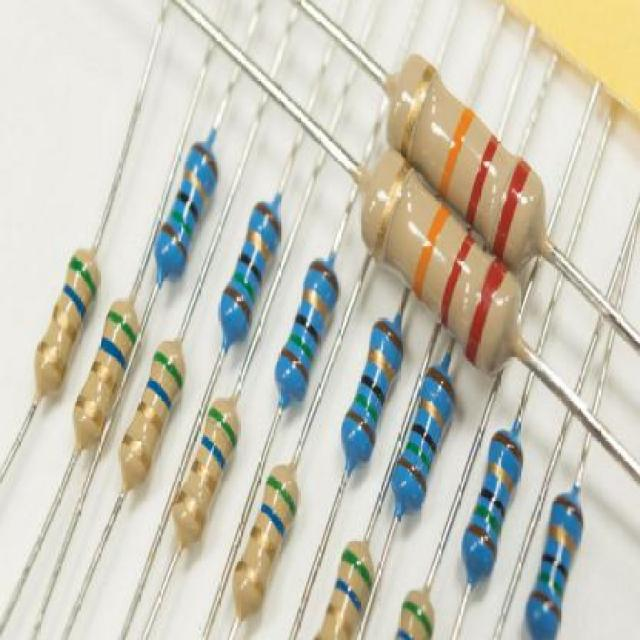Capacitor: (405, 78, 546, 268), (71, 289, 180, 485), (137, 131, 218, 318), (377, 172, 471, 322), (229, 457, 298, 626), (169, 392, 237, 551), (389, 355, 454, 520), (462, 425, 523, 589), (274, 260, 338, 414), (34, 249, 97, 402), (218, 197, 280, 352), (525, 486, 585, 640), (342, 320, 400, 477), (314, 537, 382, 640), (400, 589, 434, 640)
